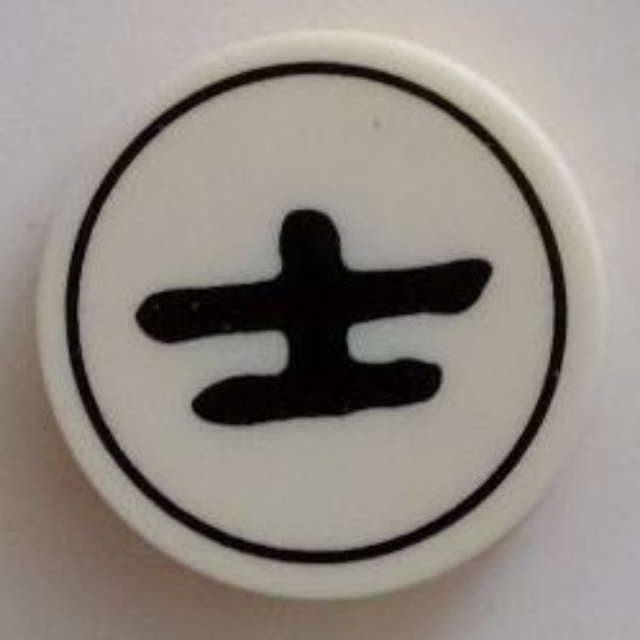black_si: (29, 28, 620, 603)
